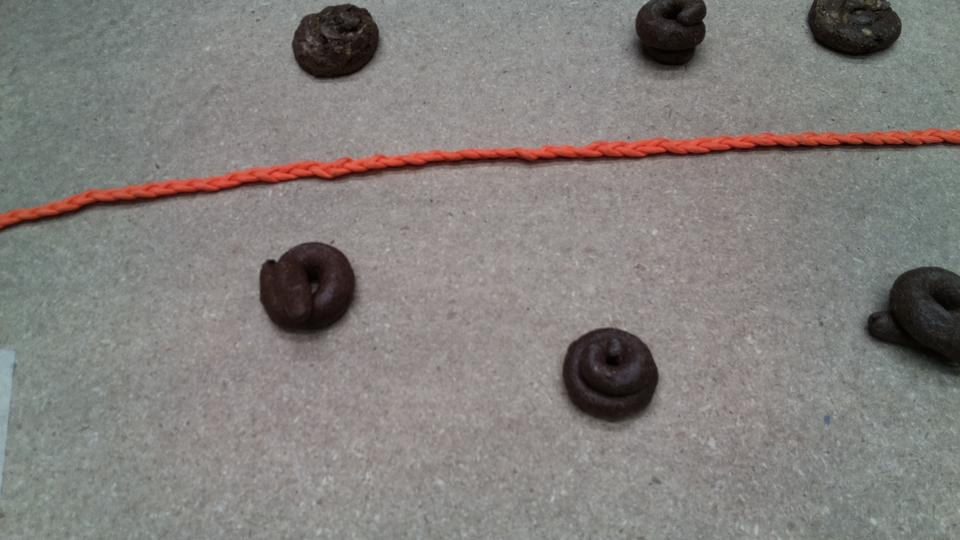poop: (248, 236, 364, 344), (861, 255, 960, 373), (560, 325, 669, 430), (285, 5, 380, 86), (805, 2, 905, 65), (630, 1, 719, 67)
rope: (380, 129, 808, 187), (727, 116, 960, 189), (6, 177, 262, 226), (188, 153, 418, 202)
